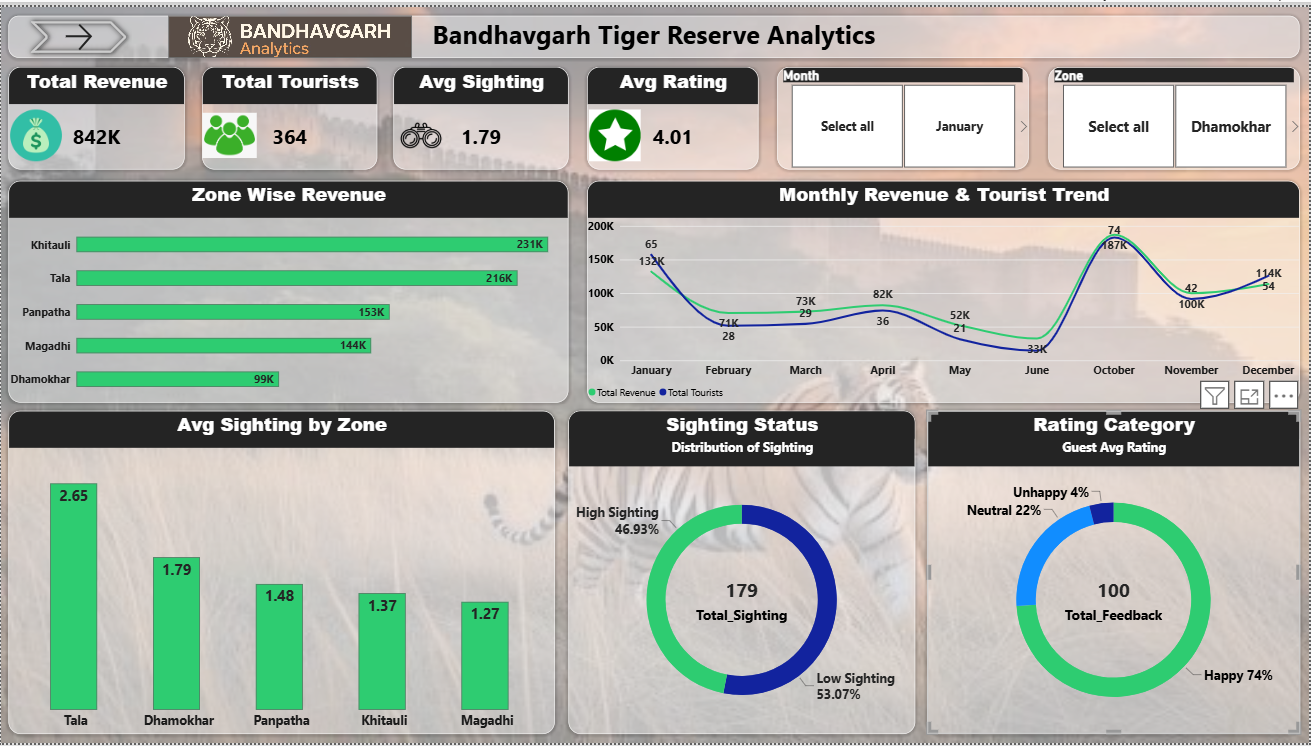

Layout of this report page (visuals, bound fields, positions):
{"tool":"powerbi","page":{"name":"Page 1","canvas":[1920,1080],"ordinal":0},"visuals":[{"type":"textbox","box":[10.9,12.7,1894.7,61.5],"z":0},{"type":"card","title":"Total Revenue","fields":{"Values":["safari_bookings.Total Revenue"]},"box":[10.9,88.7,258.8,150.2],"z":2000},{"type":"image","box":[10.9,150.2,80.3,76.2],"z":3000},{"type":"card","title":"Total Tourists","fields":{"Values":["safari_bookings.Total Tourists"]},"box":[295,88.7,257,150.2],"z":4000},{"type":"image","box":[295,150.2,80.3,76.2],"z":5000},{"type":"card","title":"Avg Sighting","fields":{"Values":["tiger_sighting.Avg Sighting Count"]},"box":[575.5,88.7,257,150.2],"z":6000},{"type":"image","box":[575.5,150.2,80.3,76.2],"z":7000},{"type":"card","title":"Avg Rating","fields":{"Values":["visitor_feedback.Avg Guest Rating"]},"box":[860.3,88,251.3,150.4],"z":8000},{"type":"image","box":[859.6,150.2,80.3,76.2],"z":9000},{"type":"slicer","fields":{"Values":["Dim_Date.Month"]},"box":[1139.1,88,368.7,150.4],"z":10000},{"type":"slicer","fields":{"Values":["Dim_Zone.Zone"]},"box":[1537.1,88,368.7,150.4],"z":11000},{"type":"lineChart","title":"Monthly Revenue & Tourist Trend","fields":{"Category":["Dim_Date.Month"],"Y":["safari_bookings.Total Revenue"],"Y2":["safari_bookings.Total Tourists"]},"box":[859.6,255.2,1046,325.7],"z":12000},{"type":"clusteredBarChart","title":"Zone Wise Revenue","fields":{"Category":["Dim_Zone.Zone"],"Y":["safari_bookings.Total Revenue"]},"box":[10.9,255.2,821.6,325.7],"z":13000},{"type":"clusteredColumnChart","title":"Avg Sighting by Zone","fields":{"Category":["Dim_Zone.Zone"],"Y":["tiger_sighting.Avg Sighting Count"]},"box":[10.9,591.8,801.7,474.1],"z":14000},{"type":"donutChart","title":"Sighting Status","fields":{"Category":["tiger_sighting.Sighting Status"],"Y":["Sum(tiger_sighting.Sighting_Count)"]},"box":[832.4,591.8,508.5,474.1],"z":15000},{"type":"donutChart","title":"Rating Category","fields":{"Category":["visitor_feedback.Rating Category"],"Y":["CountNonNull(visitor_feedback.Rating)"]},"box":[1359,592,547,474],"z":16000},{"type":"image","box":[246.1,12.7,356.5,61.5],"z":17000},{"type":"actionButton","box":[34.9,12.8,157.7,62.4],"z":18000},{"type":"actionButton","box":[11,88,258.6,150.4],"z":19000},{"type":"actionButton","box":[295.3,88,256.8,150.4],"z":20000},{"type":"actionButton","box":[860.3,88,251.3,150.4],"z":21000},{"type":"actionButton","box":[576,88,256.8,150.4],"z":22000}]}

Visuals, with their boxes in screenshot pixels (x1, y1, x2, y2), scaled from the page's 1920x1080 canvas onto the 1311x746 screenshot:
textbox: crop(7, 9, 1301, 51)
"Total Revenue" card: crop(7, 61, 184, 165)
image: crop(7, 104, 62, 156)
"Total Tourists" card: crop(201, 61, 377, 165)
image: crop(201, 104, 256, 156)
"Avg Sighting" card: crop(393, 61, 568, 165)
image: crop(393, 104, 448, 156)
"Avg Rating" card: crop(587, 61, 759, 165)
image: crop(587, 104, 642, 156)
slicer - Dim_Date.Month: crop(778, 61, 1030, 165)
slicer - Dim_Zone.Zone: crop(1050, 61, 1301, 165)
"Monthly Revenue & Tourist Trend" lineChart: crop(587, 176, 1301, 401)
"Zone Wise Revenue" clusteredBarChart: crop(7, 176, 568, 401)
"Avg Sighting by Zone" clusteredColumnChart: crop(7, 409, 555, 736)
"Sighting Status" donutChart: crop(568, 409, 916, 736)
"Rating Category" donutChart: crop(928, 409, 1301, 736)
image: crop(168, 9, 411, 51)
actionButton: crop(24, 9, 132, 52)
actionButton: crop(8, 61, 184, 165)
actionButton: crop(202, 61, 377, 165)
actionButton: crop(587, 61, 759, 165)
actionButton: crop(393, 61, 569, 165)
